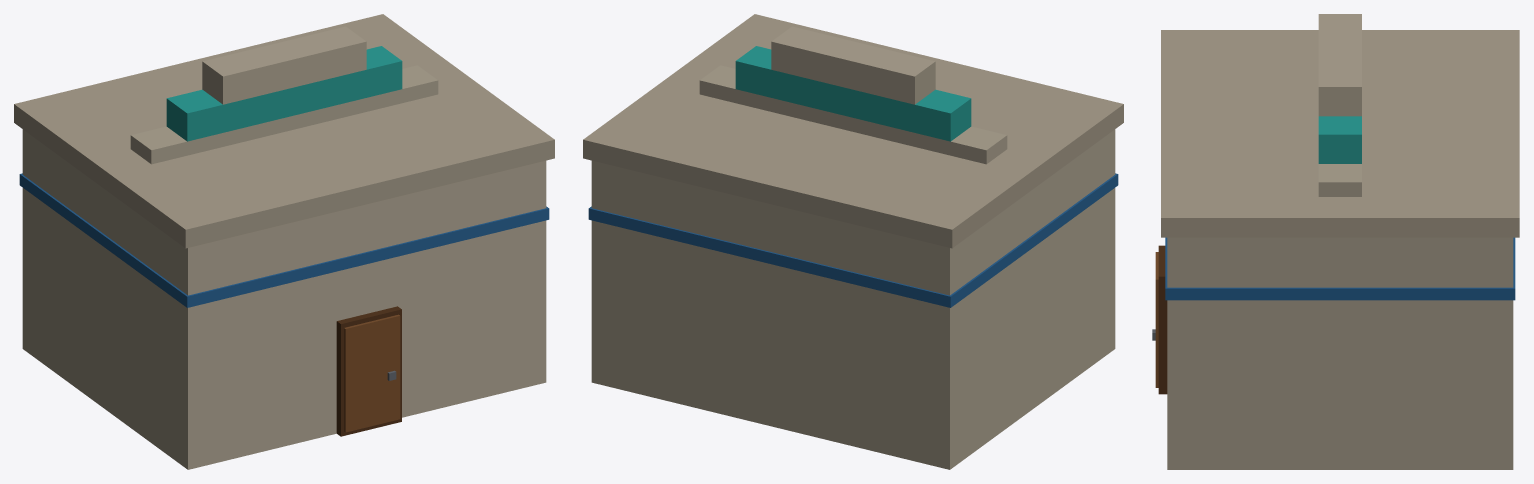
File: frog_house_c_broken.glb
3 renders of one model, left to right at view 1: azimuth 30°, elevation 25°; view 2: azimuth 150°, elevation 25°; view 3: azimuth 270°, elevation 25°, orthographic. The views are drawn at different scales.
Parts seen in each view (by area): view 1: frog_house_c_piece1, frog_house_c_piece3, frog_house_c_piece8, frog_house_c_piece6, frog_house_c_piece0, frog_house_c_piece2, frog_house_c_piece4, frog_house_c_piece7; view 2: frog_house_c_piece1, frog_house_c_piece4, frog_house_c_piece2, frog_house_c_piece5, frog_house_c_piece7, frog_house_c_piece8, frog_house_c_piece6, frog_house_c_piece0; view 3: frog_house_c_piece4, frog_house_c_piece0, frog_house_c_piece8, frog_house_c_piece1, frog_house_c_piece6, frog_house_c_piece2, frog_house_c_piece3, frog_house_c_piece7.
Part boxes in pixels (bbox=[...]): frog_house_c_piece1: bbox=[22, 122, 378, 469]; frog_house_c_piece3: bbox=[340, 203, 546, 427]; frog_house_c_piece8: bbox=[248, 26, 535, 297]; frog_house_c_piece6: bbox=[177, 50, 460, 272]; frog_house_c_piece0: bbox=[405, 80, 554, 322]; frog_house_c_piece2: bbox=[42, 47, 247, 140]; frog_house_c_piece4: bbox=[246, 14, 505, 104]; frog_house_c_piece7: bbox=[14, 97, 113, 291]; frog_house_c_piece1: bbox=[907, 69, 1123, 469]; frog_house_c_piece4: bbox=[583, 49, 784, 391]; frog_house_c_piece2: bbox=[658, 106, 972, 375]; frog_house_c_piece5: bbox=[631, 277, 908, 459]; frog_house_c_piece7: bbox=[828, 184, 983, 457]; frog_house_c_piece8: bbox=[744, 18, 870, 164]; frog_house_c_piece6: bbox=[856, 40, 981, 155]; frog_house_c_piece0: bbox=[706, 14, 773, 73]; frog_house_c_piece4: bbox=[1262, 126, 1519, 469]; frog_house_c_piece0: bbox=[1161, 169, 1335, 450]; frog_house_c_piece8: bbox=[1161, 37, 1466, 273]; frog_house_c_piece1: bbox=[1155, 30, 1452, 260]; frog_house_c_piece6: bbox=[1161, 14, 1410, 240]; frog_house_c_piece2: bbox=[1362, 44, 1519, 149]; frog_house_c_piece3: bbox=[1152, 255, 1375, 469]; frog_house_c_piece7: bbox=[1428, 30, 1519, 58].
Bounding box in the file's own units: 2.06 × 1.68 × 1.7.
